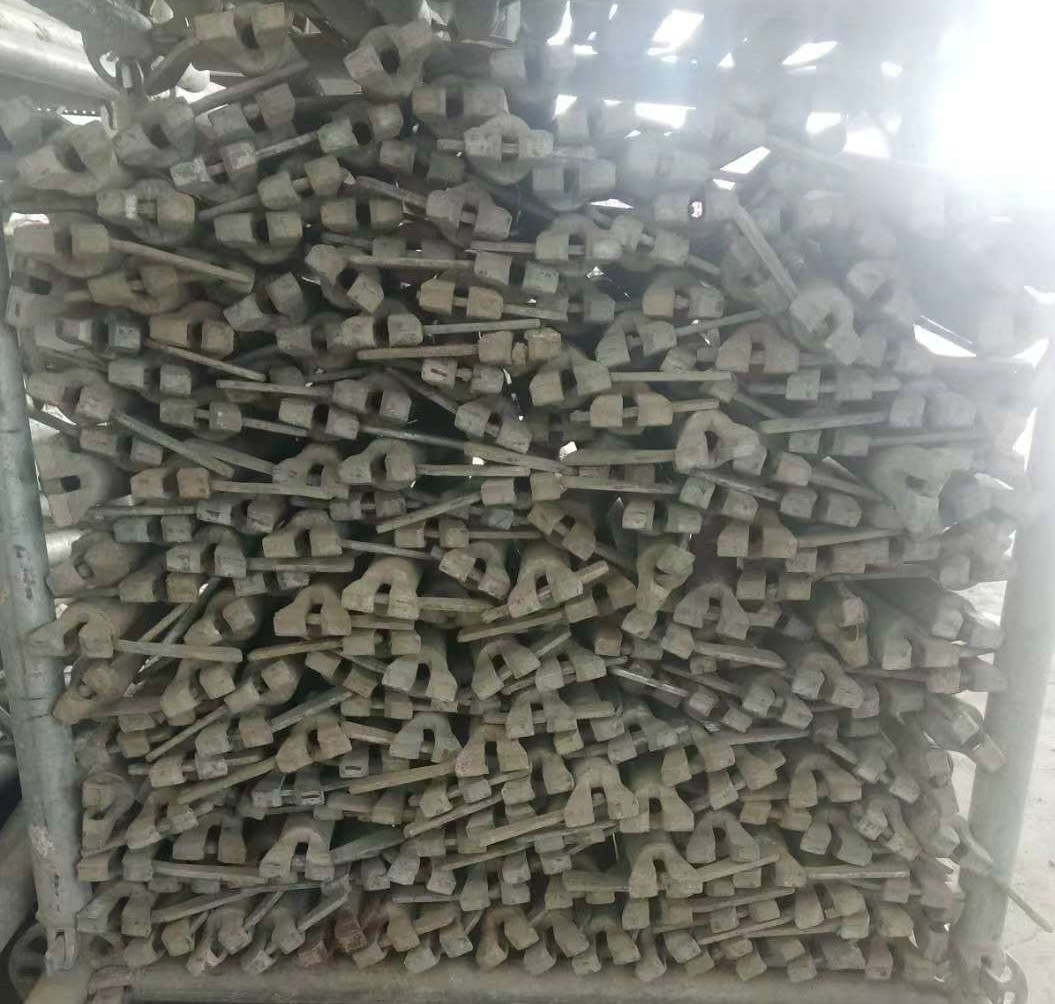NHsquare_steel: (17, 120, 110, 187), (303, 244, 384, 315), (112, 97, 194, 166), (343, 22, 435, 82), (788, 297, 860, 369), (847, 262, 920, 330), (206, 82, 296, 136), (725, 237, 785, 318), (24, 373, 112, 428), (420, 191, 515, 240), (42, 543, 122, 601), (316, 101, 405, 153), (225, 269, 301, 329), (898, 449, 951, 535), (170, 140, 261, 190), (9, 218, 110, 263), (193, 2, 288, 48), (53, 662, 119, 727), (258, 156, 343, 206), (622, 138, 711, 185), (945, 711, 1008, 776), (677, 476, 762, 524), (241, 921, 305, 984), (471, 252, 560, 297), (85, 265, 185, 305), (330, 376, 416, 422), (615, 218, 691, 270), (473, 643, 540, 701), (185, 921, 252, 979), (144, 313, 234, 356), (379, 143, 464, 188), (160, 668, 235, 719), (453, 408, 534, 455), (925, 602, 1004, 650), (297, 922, 368, 975), (32, 444, 76, 529), (778, 487, 863, 531), (501, 571, 586, 615), (674, 593, 747, 644), (24, 621, 117, 661), (490, 43, 578, 85), (99, 192, 196, 230), (124, 802, 199, 851), (674, 428, 761, 470), (527, 509, 600, 559), (415, 282, 504, 323), (1, 252, 47, 331), (184, 602, 258, 651), (225, 659, 292, 713), (216, 209, 304, 250), (559, 580, 637, 626), (411, 84, 507, 121), (460, 126, 556, 163), (661, 740, 735, 788), (51, 314, 144, 352), (644, 545, 693, 617), (341, 582, 425, 624), (708, 759, 777, 810), (855, 751, 920, 805), (527, 160, 619, 198), (440, 553, 511, 602), (304, 653, 378, 700), (382, 659, 461, 703), (476, 329, 565, 368), (891, 392, 975, 433), (278, 727, 351, 774), (275, 404, 360, 444), (638, 283, 725, 322), (533, 229, 627, 265), (790, 665, 862, 712), (650, 189, 741, 226), (156, 401, 247, 438), (599, 324, 675, 368), (123, 926, 194, 973), (108, 360, 198, 397), (268, 459, 349, 500), (555, 102, 638, 142), (860, 809, 922, 862), (606, 721, 679, 766), (77, 431, 165, 468), (798, 824, 872, 868), (752, 197, 833, 237), (592, 392, 673, 432), (418, 360, 505, 397), (861, 335, 934, 379), (932, 823, 995, 873), (422, 777, 492, 822), (524, 927, 587, 977), (340, 313, 426, 349), (746, 688, 813, 734), (449, 741, 530, 779), (406, 928, 470, 976), (338, 451, 418, 489), (273, 602, 349, 642), (197, 498, 279, 535), (925, 666, 1014, 700), (503, 765, 575, 807), (319, 197, 405, 232), (682, 692, 753, 734), (831, 594, 871, 668), (533, 654, 607, 694), (480, 473, 564, 508), (79, 776, 118, 851), (626, 860, 701, 899), (937, 551, 1019, 586), (736, 940, 807, 980), (716, 341, 799, 375), (255, 848, 338, 882), (357, 926, 417, 973), (786, 371, 874, 403), (228, 569, 316, 601), (792, 890, 866, 928), (505, 703, 576, 742), (617, 507, 703, 539), (77, 730, 149, 768), (784, 947, 860, 983), (568, 940, 640, 978), (477, 923, 537, 968), (556, 715, 627, 753), (165, 547, 252, 578), (195, 721, 272, 756), (787, 427, 871, 459), (557, 792, 641, 824), (131, 468, 210, 502), (792, 770, 859, 810), (622, 800, 696, 836), (634, 939, 697, 981), (922, 747, 959, 818), (883, 637, 958, 672), (76, 854, 157, 886), (683, 940, 751, 978), (733, 574, 813, 606), (926, 901, 966, 965), (110, 516, 195, 546), (77, 905, 154, 938), (388, 726, 458, 762), (708, 900, 782, 934), (165, 838, 254, 866), (851, 685, 924, 719), (278, 322, 340, 362), (718, 530, 798, 561), (252, 779, 327, 812), (120, 578, 205, 607), (536, 295, 618, 325), (756, 604, 816, 645), (386, 862, 458, 896), (147, 758, 231, 787), (317, 867, 388, 901), (731, 860, 806, 892), (328, 496, 413, 524), (576, 459, 658, 488), (263, 534, 345, 563), (389, 522, 471, 551), (860, 536, 940, 565), (617, 899, 695, 928), (881, 881, 953, 912), (866, 954, 938, 985), (685, 834, 765, 861), (503, 855, 575, 885), (788, 548, 864, 576), (842, 912, 915, 940), (739, 804, 811, 832), (413, 833, 492, 858), (460, 884, 529, 912), (528, 415, 591, 445), (814, 715, 883, 742), (591, 633, 665, 658)
